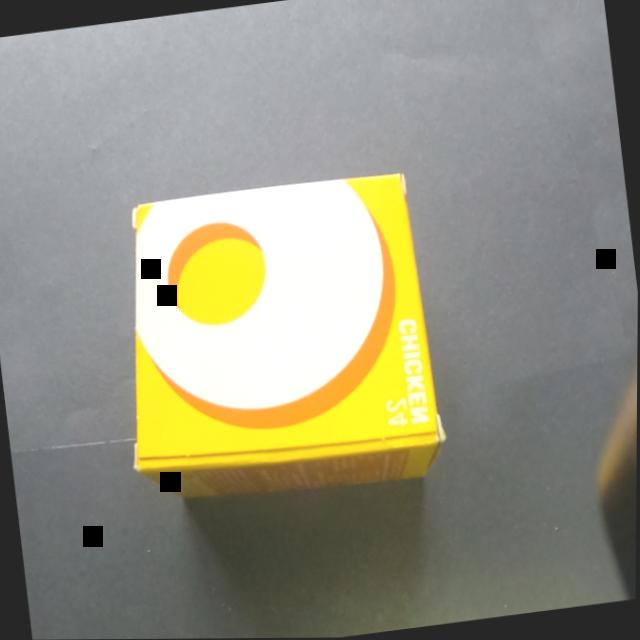Chickenstock: (67, 115, 475, 549)
